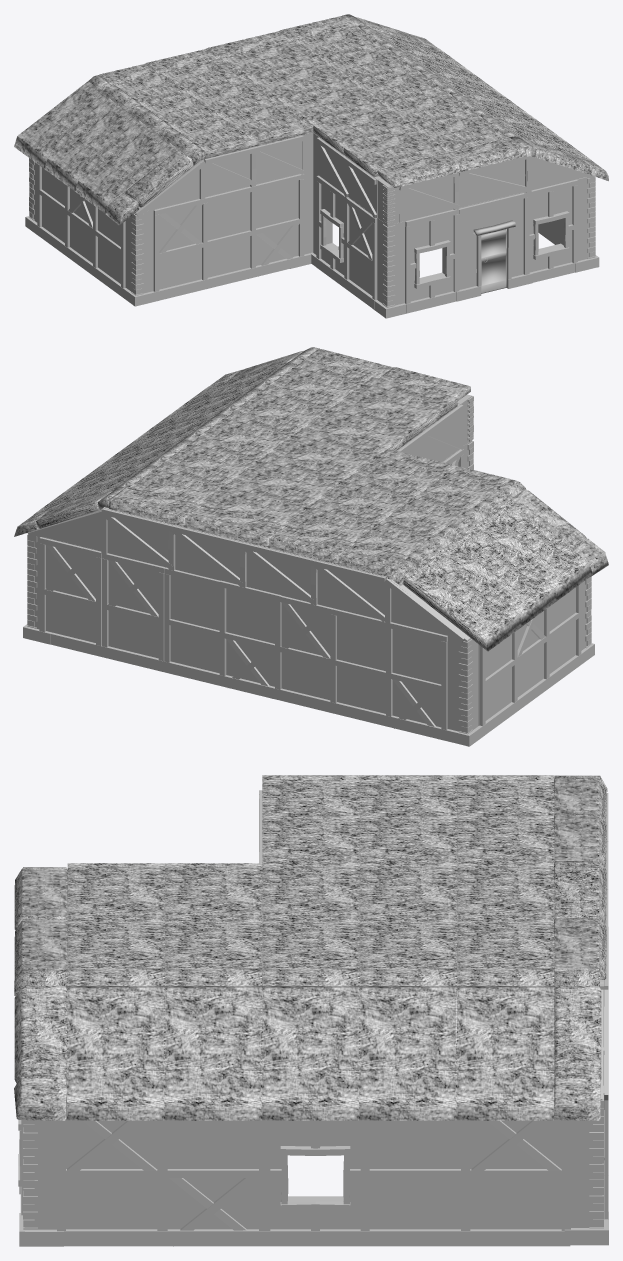
Rendered from house_2.fbx.
The picture shows the model from 3 angles, top to bottom: view 1: azimuth 30°, elevation 25°; view 2: azimuth 150°, elevation 25°; view 3: azimuth 270°, elevation 25°; orthographic projection. The views are drawn at different scales.
Visible parts, largest first — view 1: puerta_1.003, techo_paja_4x3.009; view 2: techo_paja_4x3.009, puerta_1.003; view 3: techo_paja_4x3.009, puerta_1.003.
Boxes of the visible parts, x1,y1,x2,y2 form: puerta_1.003: (25, 132, 599, 318); techo_paja_4x3.009: (14, 14, 608, 225); techo_paja_4x3.009: (14, 347, 608, 651); puerta_1.003: (23, 394, 594, 746); techo_paja_4x3.009: (14, 775, 607, 1120); puerta_1.003: (18, 790, 608, 1246).
Bounding box in the file's own units: 2353 × 750 × 1831.
